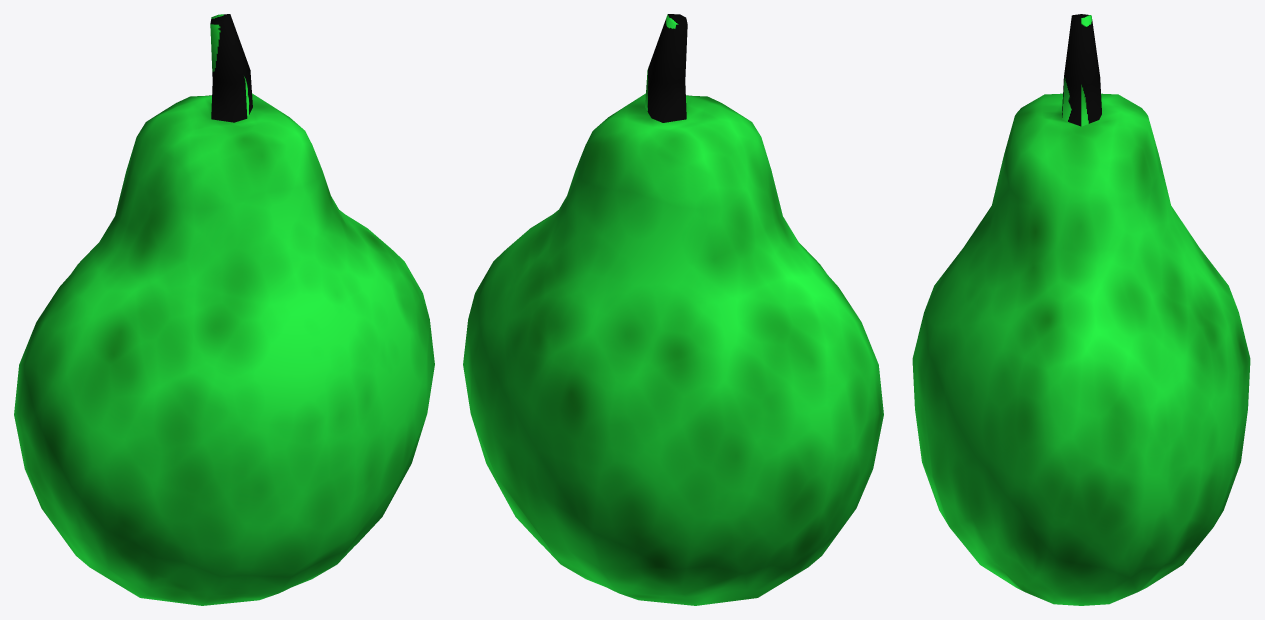
Rendered from Pear.fbx.
3 renders of one model, left to right at view 1: azimuth 30°, elevation 25°; view 2: azimuth 150°, elevation 25°; view 3: azimuth 270°, elevation 25°, orthographic.
Parts seen in each view (by area): view 1: base.001; view 2: base.001; view 3: base.001.
Boxes of the visible parts, x1,y1,x2,y2 form: base.001: (14,14,434,605); base.001: (463,14,883,605); base.001: (912,14,1250,605).
Bounding box in the file's own units: 183 × 257 × 140.
2 materials, 2 textured.
